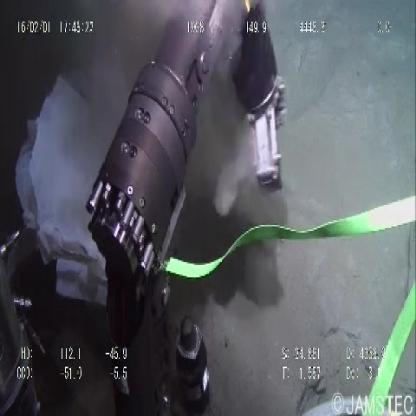Rov: (85, 1, 289, 410)
Rác: (14, 64, 119, 307)
